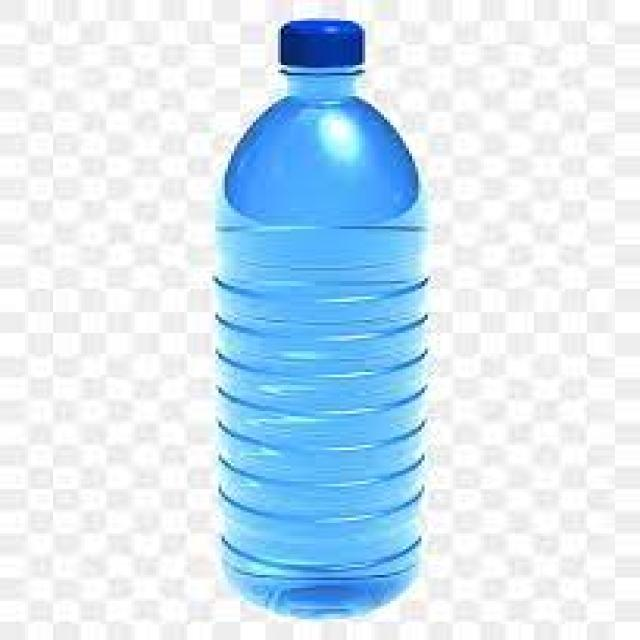plastic cup: (217, 20, 427, 618)
